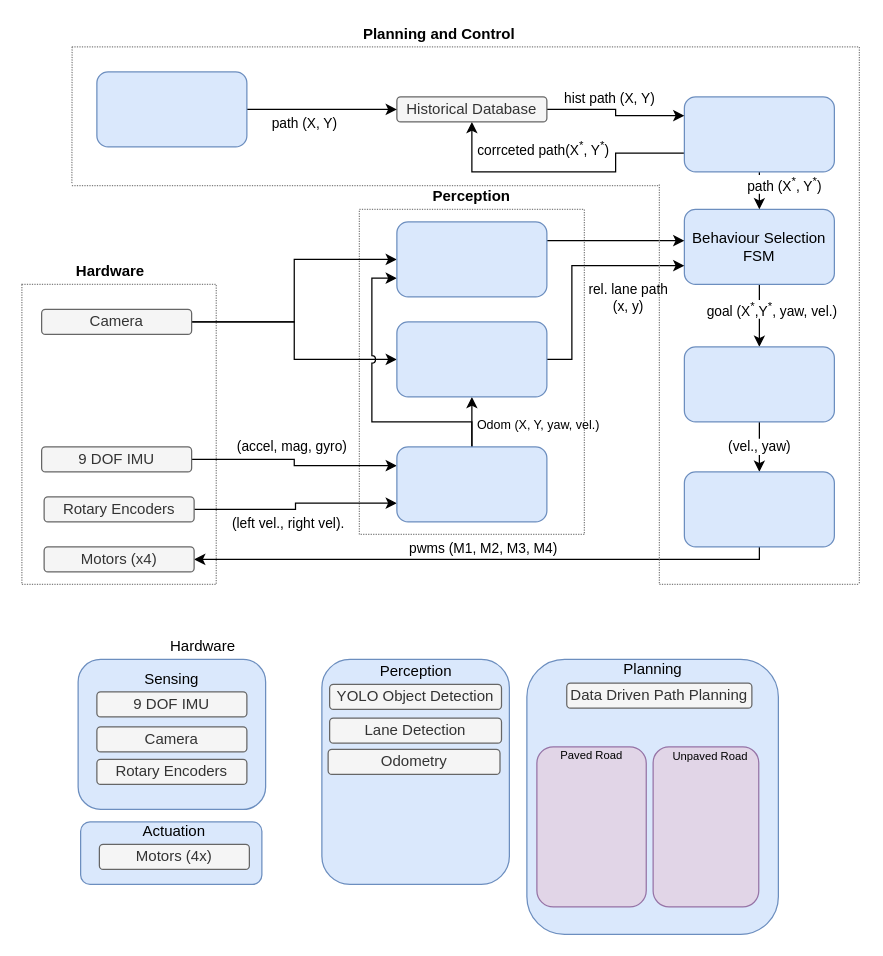
This 883x956 diagram has some shape labels left out. Each missing label, with the centre of its shape:
"Dynamic + Static Object Detection" goes at pixel 471 259.
"Lane Detector" goes at pixel 471 359.
"Motion Planning" goes at pixel 758 384.
"Movement Controller" goes at pixel 758 509.
"Odometry Estimation" goes at pixel 471 484.
"Offline Path Planning" goes at pixel 171 109.
"Online Path Correction" goes at pixel 758 134.
